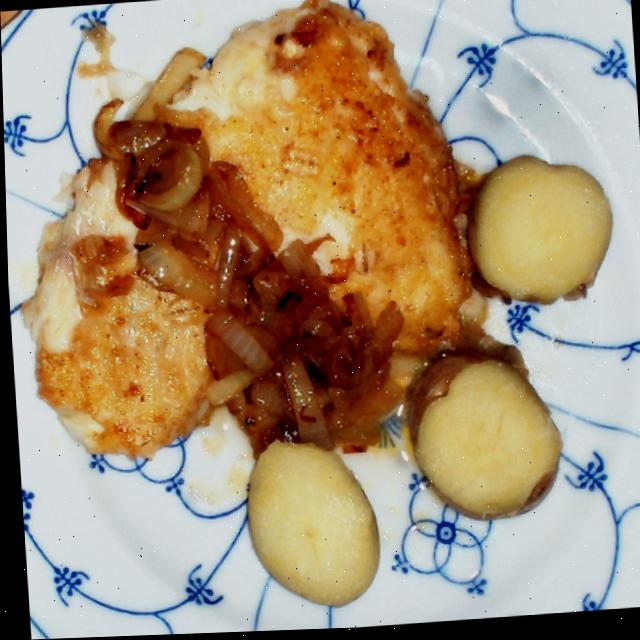炸货点心: (7, 0, 520, 466)
熟制海鲜: (7, 0, 520, 466)
